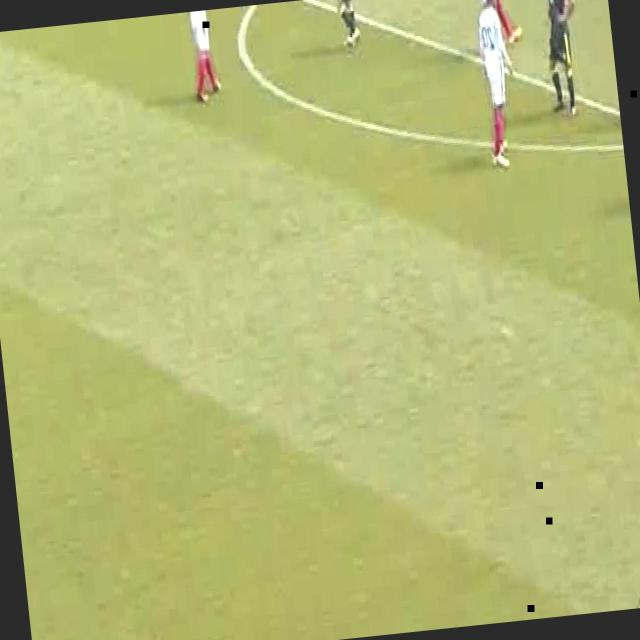player-white: (474, 0, 522, 169), (539, 0, 587, 116), (185, 9, 227, 104), (474, 0, 524, 44), (337, 0, 363, 48)
